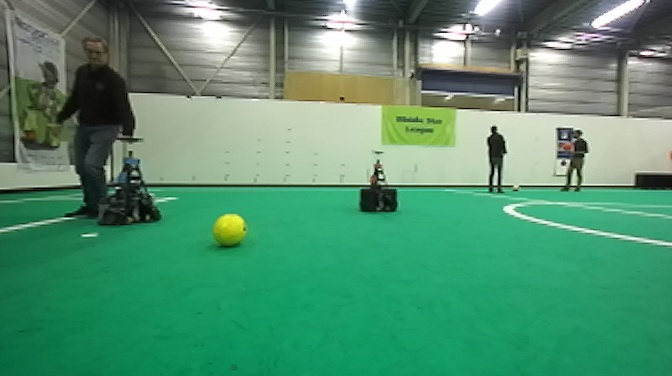ball: (211, 212, 247, 250), (510, 182, 521, 192), (563, 143, 573, 154)
human: (54, 37, 137, 220), (482, 123, 507, 193), (564, 128, 590, 191)
robot: (94, 137, 163, 226), (358, 150, 399, 214)
